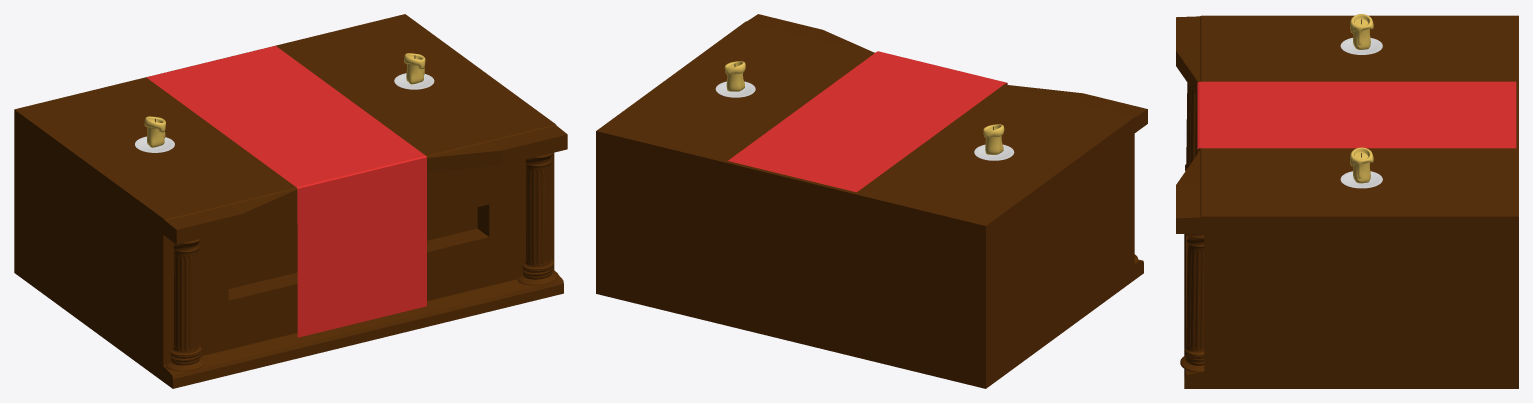
The model's file is altar.fbx.
The picture shows the model from 3 angles, left to right: view 1: azimuth 30°, elevation 25°; view 2: azimuth 150°, elevation 25°; view 3: azimuth 270°, elevation 25°; orthographic projection. The views are drawn at different scales.
Visible parts, largest first — view 1: Cube, Cube.001, Circle.001, Circle, Cylinder, Cylinder.003; view 2: Cube, Cube.001, Cylinder, Cylinder.003; view 3: Cube, Cube.001, Circle, Circle.001, Cylinder.003, Cylinder, Cylinder.005, Cylinder.002.
Part boxes in pixels (<box>): Cube: <box>14,14,567,388</box>; Cube.001: <box>146,46,426,337</box>; Circle.001: <box>165,238,206,371</box>; Circle: <box>517,152,558,285</box>; Cylinder: <box>144,116,165,147</box>; Cylinder.003: <box>404,53,425,84</box>; Cube: <box>596,14,1147,388</box>; Cube.001: <box>728,51,1007,192</box>; Cylinder: <box>983,124,1004,154</box>; Cylinder.003: <box>724,61,745,91</box>; Cube: <box>1176,15,1518,388</box>; Cube.001: <box>1197,81,1516,148</box>; Circle: <box>1180,234,1204,372</box>; Circle.001: <box>1185,83,1199,170</box>; Cylinder.003: <box>1350,147,1373,183</box>; Cylinder: <box>1350,14,1373,49</box>; Cylinder.005: <box>1340,171,1382,188</box>; Cylinder.002: <box>1340,37,1382,54</box>.
Bounding box in the file's own units: 943 × 446 × 679.
